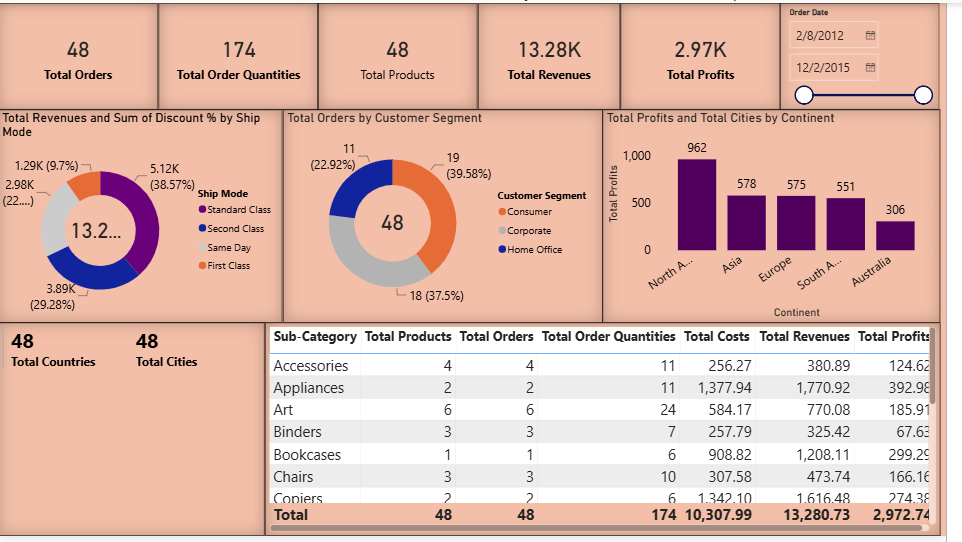

The page's visual inventory and layout, read from the dashboard file:
{"tool":"powerbi","page":{"name":"Executive  page","canvas":[1280,720],"ordinal":1},"visuals":[{"type":"card","fields":{"Values":["sales.Total Order Quantities"]},"box":[216,0,216,144],"z":0},{"type":"card","fields":{"Values":["sales.Total Products"]},"box":[432,0,216,144],"z":1000},{"type":"card","fields":{"Values":["sales.Total Revenues"]},"box":[648,0,192,144],"z":2000},{"type":"card","fields":{"Values":["sales.Total Profits"]},"box":[840,0,216,144],"z":3000},{"type":"card","fields":{"Values":["Date.Total Orders"]},"box":[0,0,216,144],"z":4000},{"type":"donutChart","fields":{"Category":["sales.Ship Mode"],"Y":["sales.Total Revenues"]},"box":[0,144,384,288],"z":5000},{"type":"donutChart","fields":{"Category":["sales.Customer Segment"],"Y":["Date.Total Orders"]},"box":[384,144,432,288],"z":6000},{"type":"clusteredColumnChart","fields":{"Category":["sales.Continent"],"Y":["sales.Total Profits"]},"box":[816,144,456,288],"z":7000},{"type":"multiRowCard","fields":{"Values":["Date.Total Countries","Date.Total Cities"]},"box":[0,432,360,288],"z":8000},{"type":"tableEx","fields":{"Values":["sales.Sub-Category","sales.Total Products","Date.Total Orders","sales.Total Order Quantities","sales.Total Costs","sales.Total Revenues","sales.Total Profits"]},"box":[360,432,912,288],"z":9000},{"type":"slicer","fields":{"Values":["sales.Order Date"]},"box":[1056,0,216,144],"z":10000}]}

Visuals, with their boxes in screenshot pixels (x1, y1, x2, y2), scaled from the page's 1280x720 canvas onto the 962x542 screenshot:
card - sales.Total Order Quantities: x1=162 y1=0 x2=325 y2=108
card - sales.Total Products: x1=325 y1=0 x2=487 y2=108
card - sales.Total Revenues: x1=487 y1=0 x2=631 y2=108
card - sales.Total Profits: x1=631 y1=0 x2=794 y2=108
card - Date.Total Orders: x1=0 y1=0 x2=162 y2=108
donutChart - sales.Ship Mode x sales.Total Revenues: x1=0 y1=108 x2=289 y2=325
donutChart - sales.Customer Segment x Date.Total Orders: x1=289 y1=108 x2=613 y2=325
clusteredColumnChart - sales.Continent x sales.Total Profits: x1=613 y1=108 x2=956 y2=325
multiRowCard - Date.Total Countries x Date.Total Cities: x1=0 y1=325 x2=271 y2=541
tableEx - sales.Sub-Category x sales.Total Products: x1=271 y1=325 x2=956 y2=541
slicer - sales.Order Date: x1=794 y1=0 x2=956 y2=108
